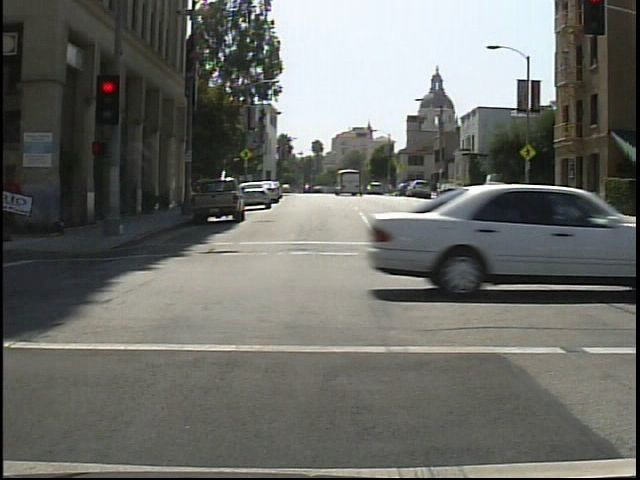person: (5, 157, 26, 243)
